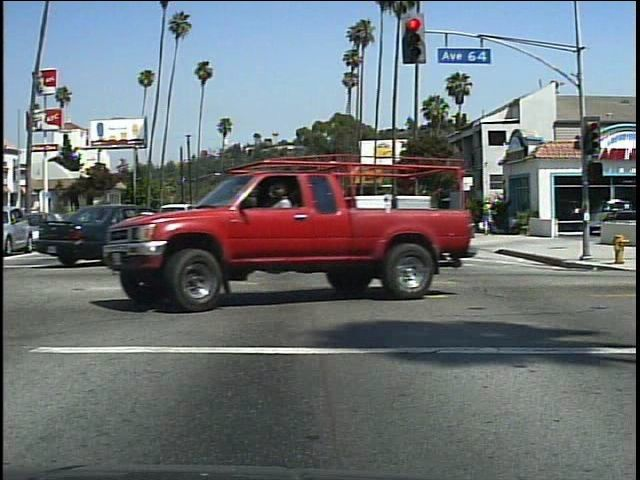person: (268, 176, 308, 297), (476, 200, 500, 236)
